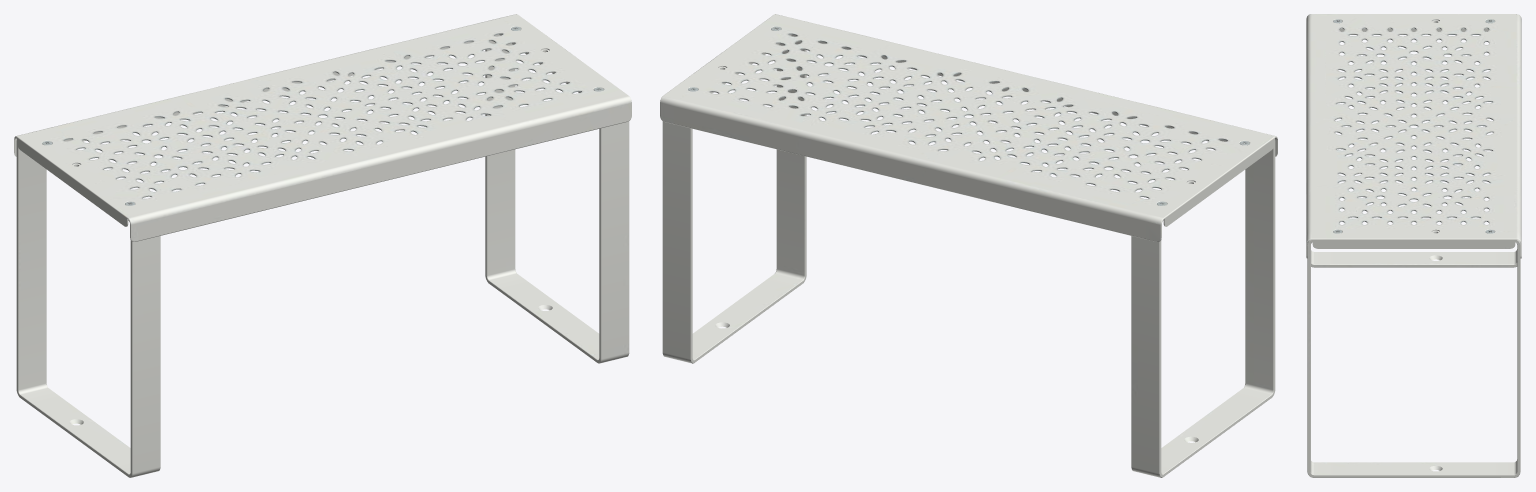
Rendered from variera_poka_wstawiana_80136622.glb.
3 views of the same model, side by side, from view 1: azimuth 30°, elevation 25°; view 2: azimuth 150°, elevation 25°; view 3: azimuth 270°, elevation 25° (orthographic). The views are drawn at different scales.
Visible parts, largest first — view 1: variera_poka_wstawiana_80136622; view 2: variera_poka_wstawiana_80136622; view 3: variera_poka_wstawiana_80136622.
Boxes of the visible parts, box(x1,y1,x2,y2) form: variera_poka_wstawiana_80136622: box(14, 14, 631, 477); variera_poka_wstawiana_80136622: box(660, 14, 1277, 477); variera_poka_wstawiana_80136622: box(1306, 14, 1521, 477).
Size of the model in its own units: 0.315 by 0.1567 by 0.1272.
1 material, 1 textured.
